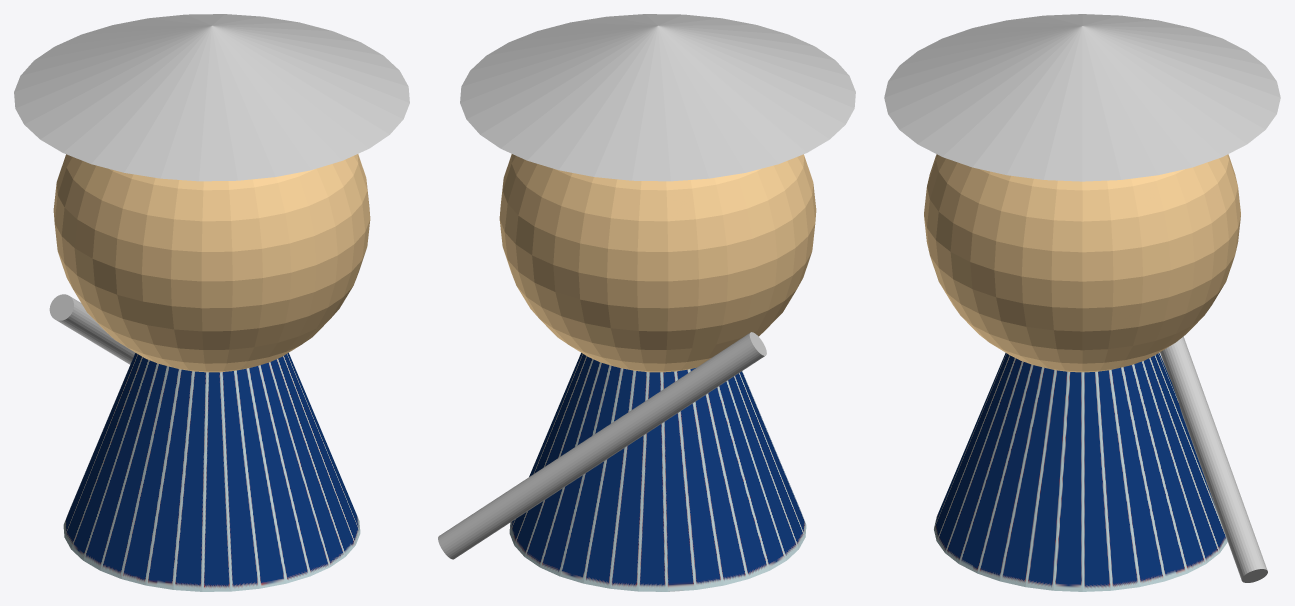
File: player.obj
3 views of the same model, side by side, from view 1: azimuth 30°, elevation 25°; view 2: azimuth 150°, elevation 25°; view 3: azimuth 270°, elevation 25° (orthographic).
Visible parts, largest first — view 1: 円柱; view 2: 円柱; view 3: 円柱.
Boxes of the visible parts, x1,y1,x2,y2 form: 円柱: (14,14,409,591); 円柱: (438,14,855,591); 円柱: (884,14,1280,591).
Size of the model in its own units: 2 by 2.8 by 2.
